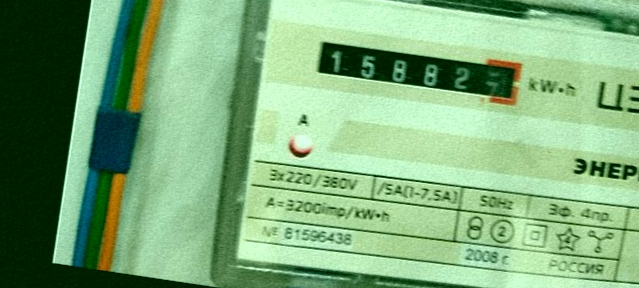1: (327, 48, 344, 75)
2: (452, 63, 471, 91)
5: (358, 52, 377, 80)
7: (482, 78, 499, 96)
8: (388, 57, 409, 83), (420, 60, 440, 87)
screen: (301, 25, 533, 117)
